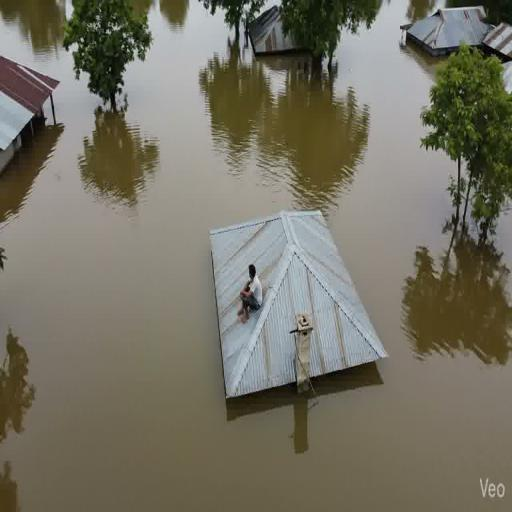human: (232, 262, 268, 323)
